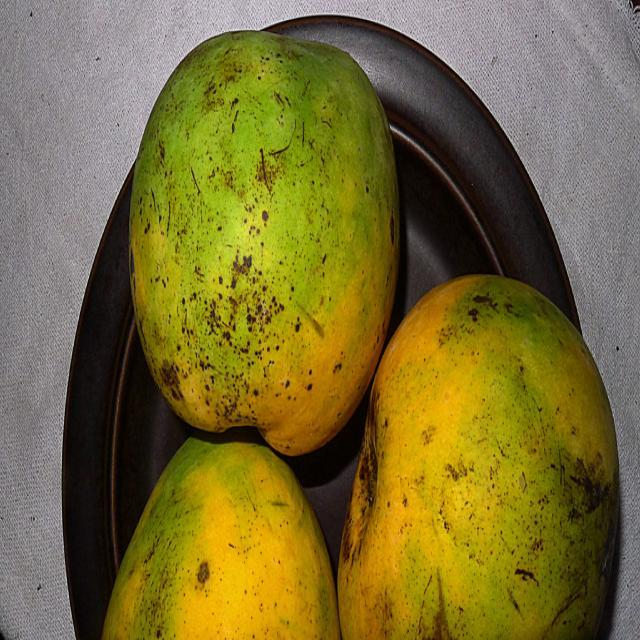Mango: (131, 29, 403, 451), (338, 273, 620, 640), (103, 435, 335, 639)
